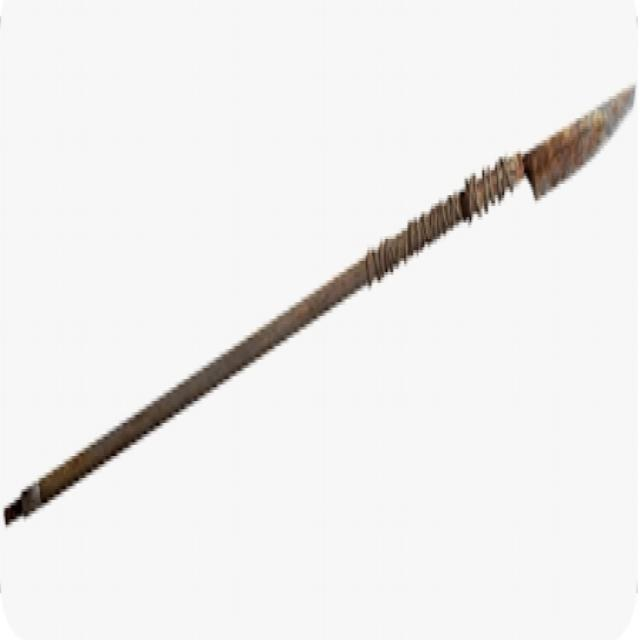spear: (2, 67, 638, 539)
